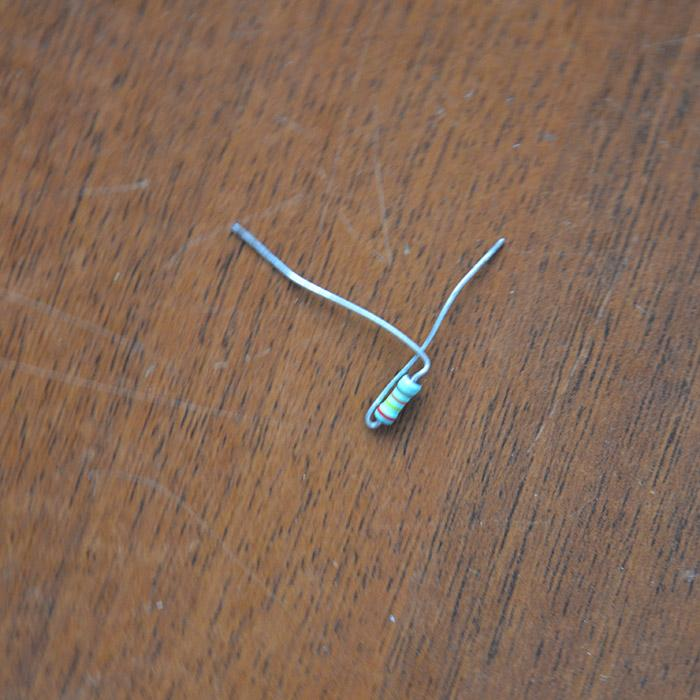resistor: (371, 370, 424, 427)
